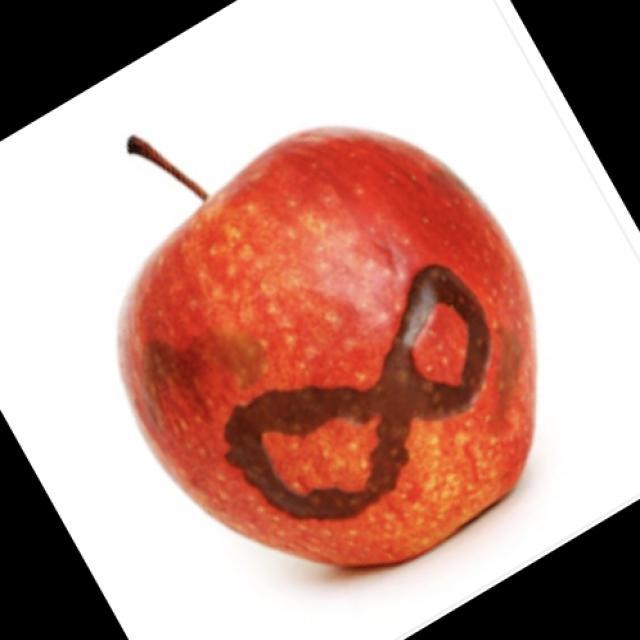Rotten: (127, 115, 548, 575)
